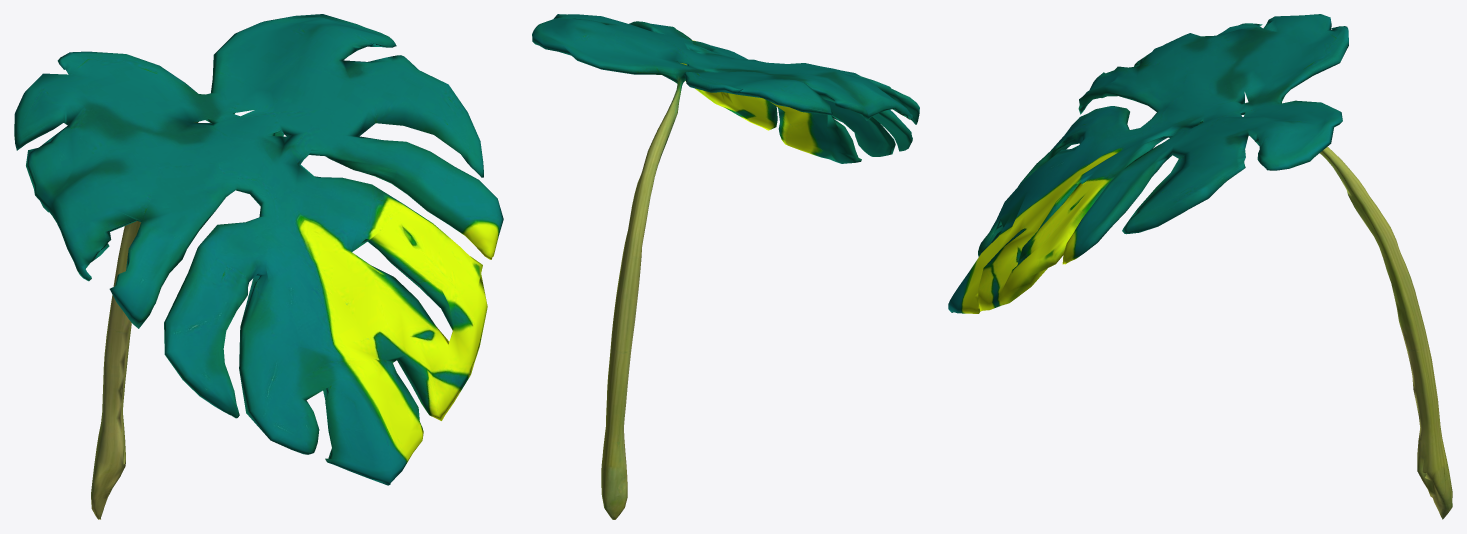
The model's file is mon_green_lemonpatch_v1.glb.
The picture shows the model from 3 angles, left to right: view 1: azimuth 30°, elevation 25°; view 2: azimuth 150°, elevation 25°; view 3: azimuth 270°, elevation 25°; orthographic projection. The views are drawn at different scales.
Size of the model in its own units: 1.63 by 1.99 by 2.
Materials: 1 (1 with a texture image).
